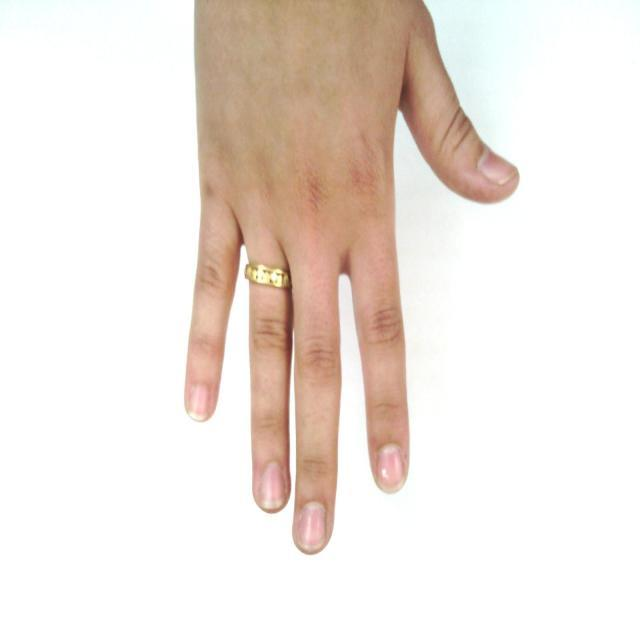Fingernail: (478, 146, 518, 185), (297, 502, 326, 552), (377, 444, 406, 494), (259, 462, 288, 510), (189, 385, 210, 421)
